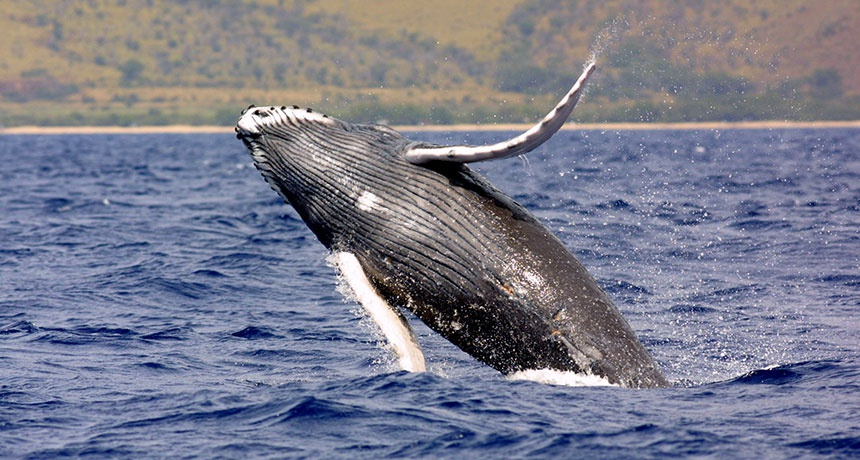humpback: (237, 103, 671, 387)
